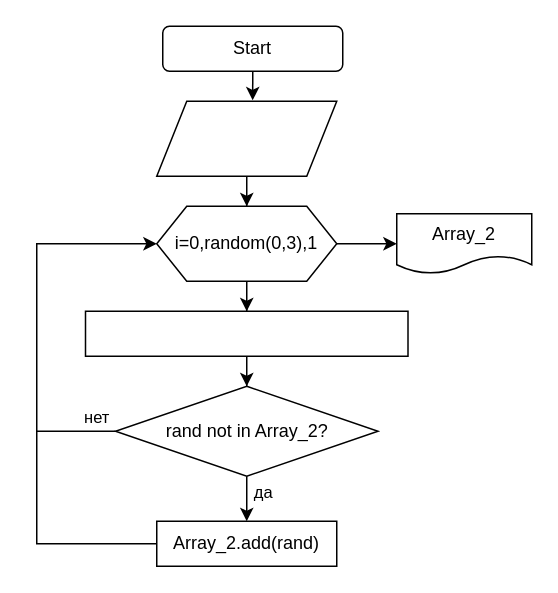
Some shapes in this 558 by 593 pixel diagram are drawn without their labels. The box of each missing label's shape, as (x1, y1, x2, y2) in pixels:
Array_1 Array_2: (155, 100, 337, 176)
rand=random_element(Array_1): (84, 310, 408, 356)
